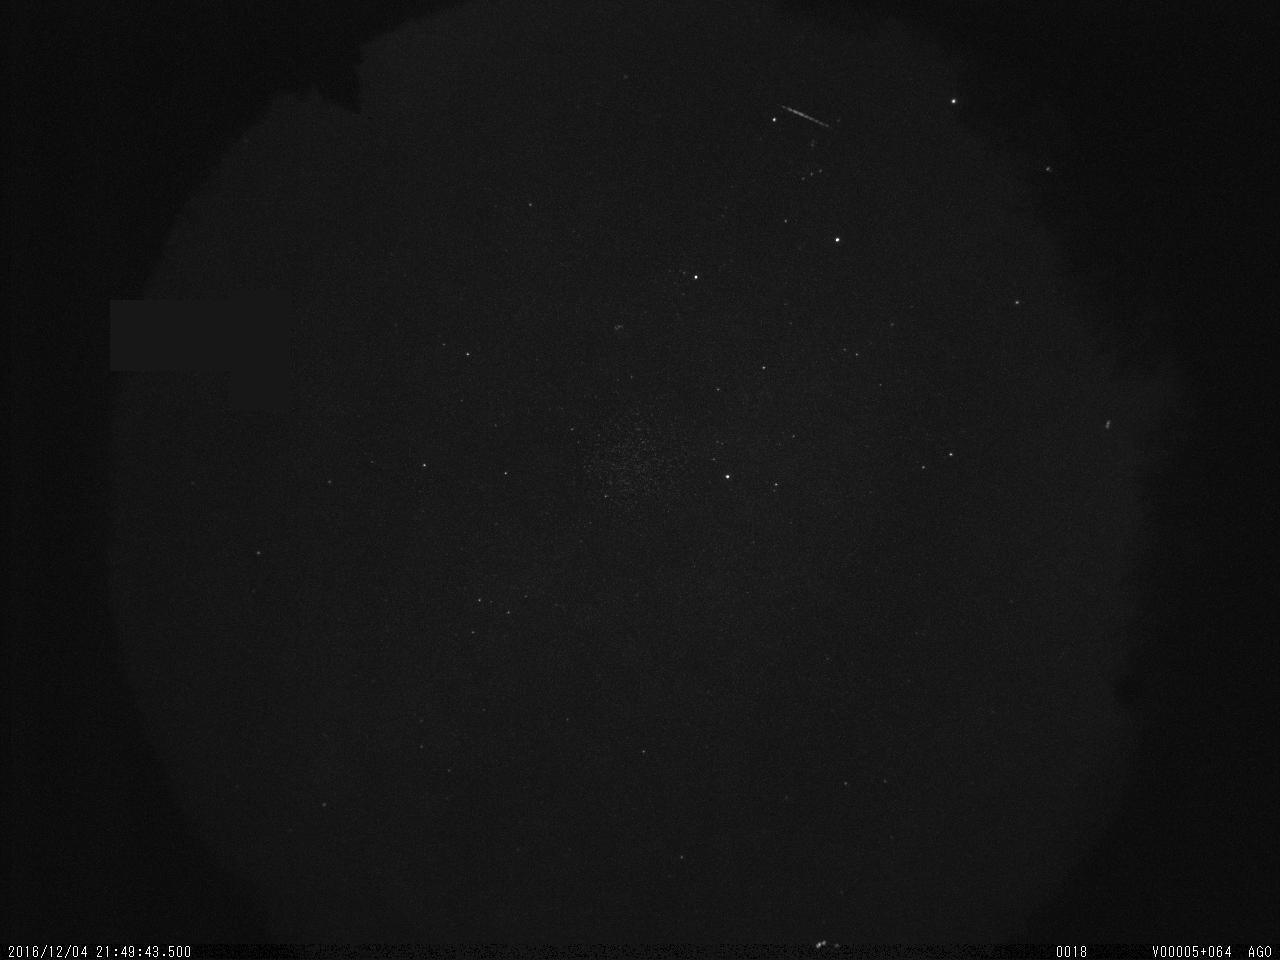meteor: (777, 97, 844, 139)
